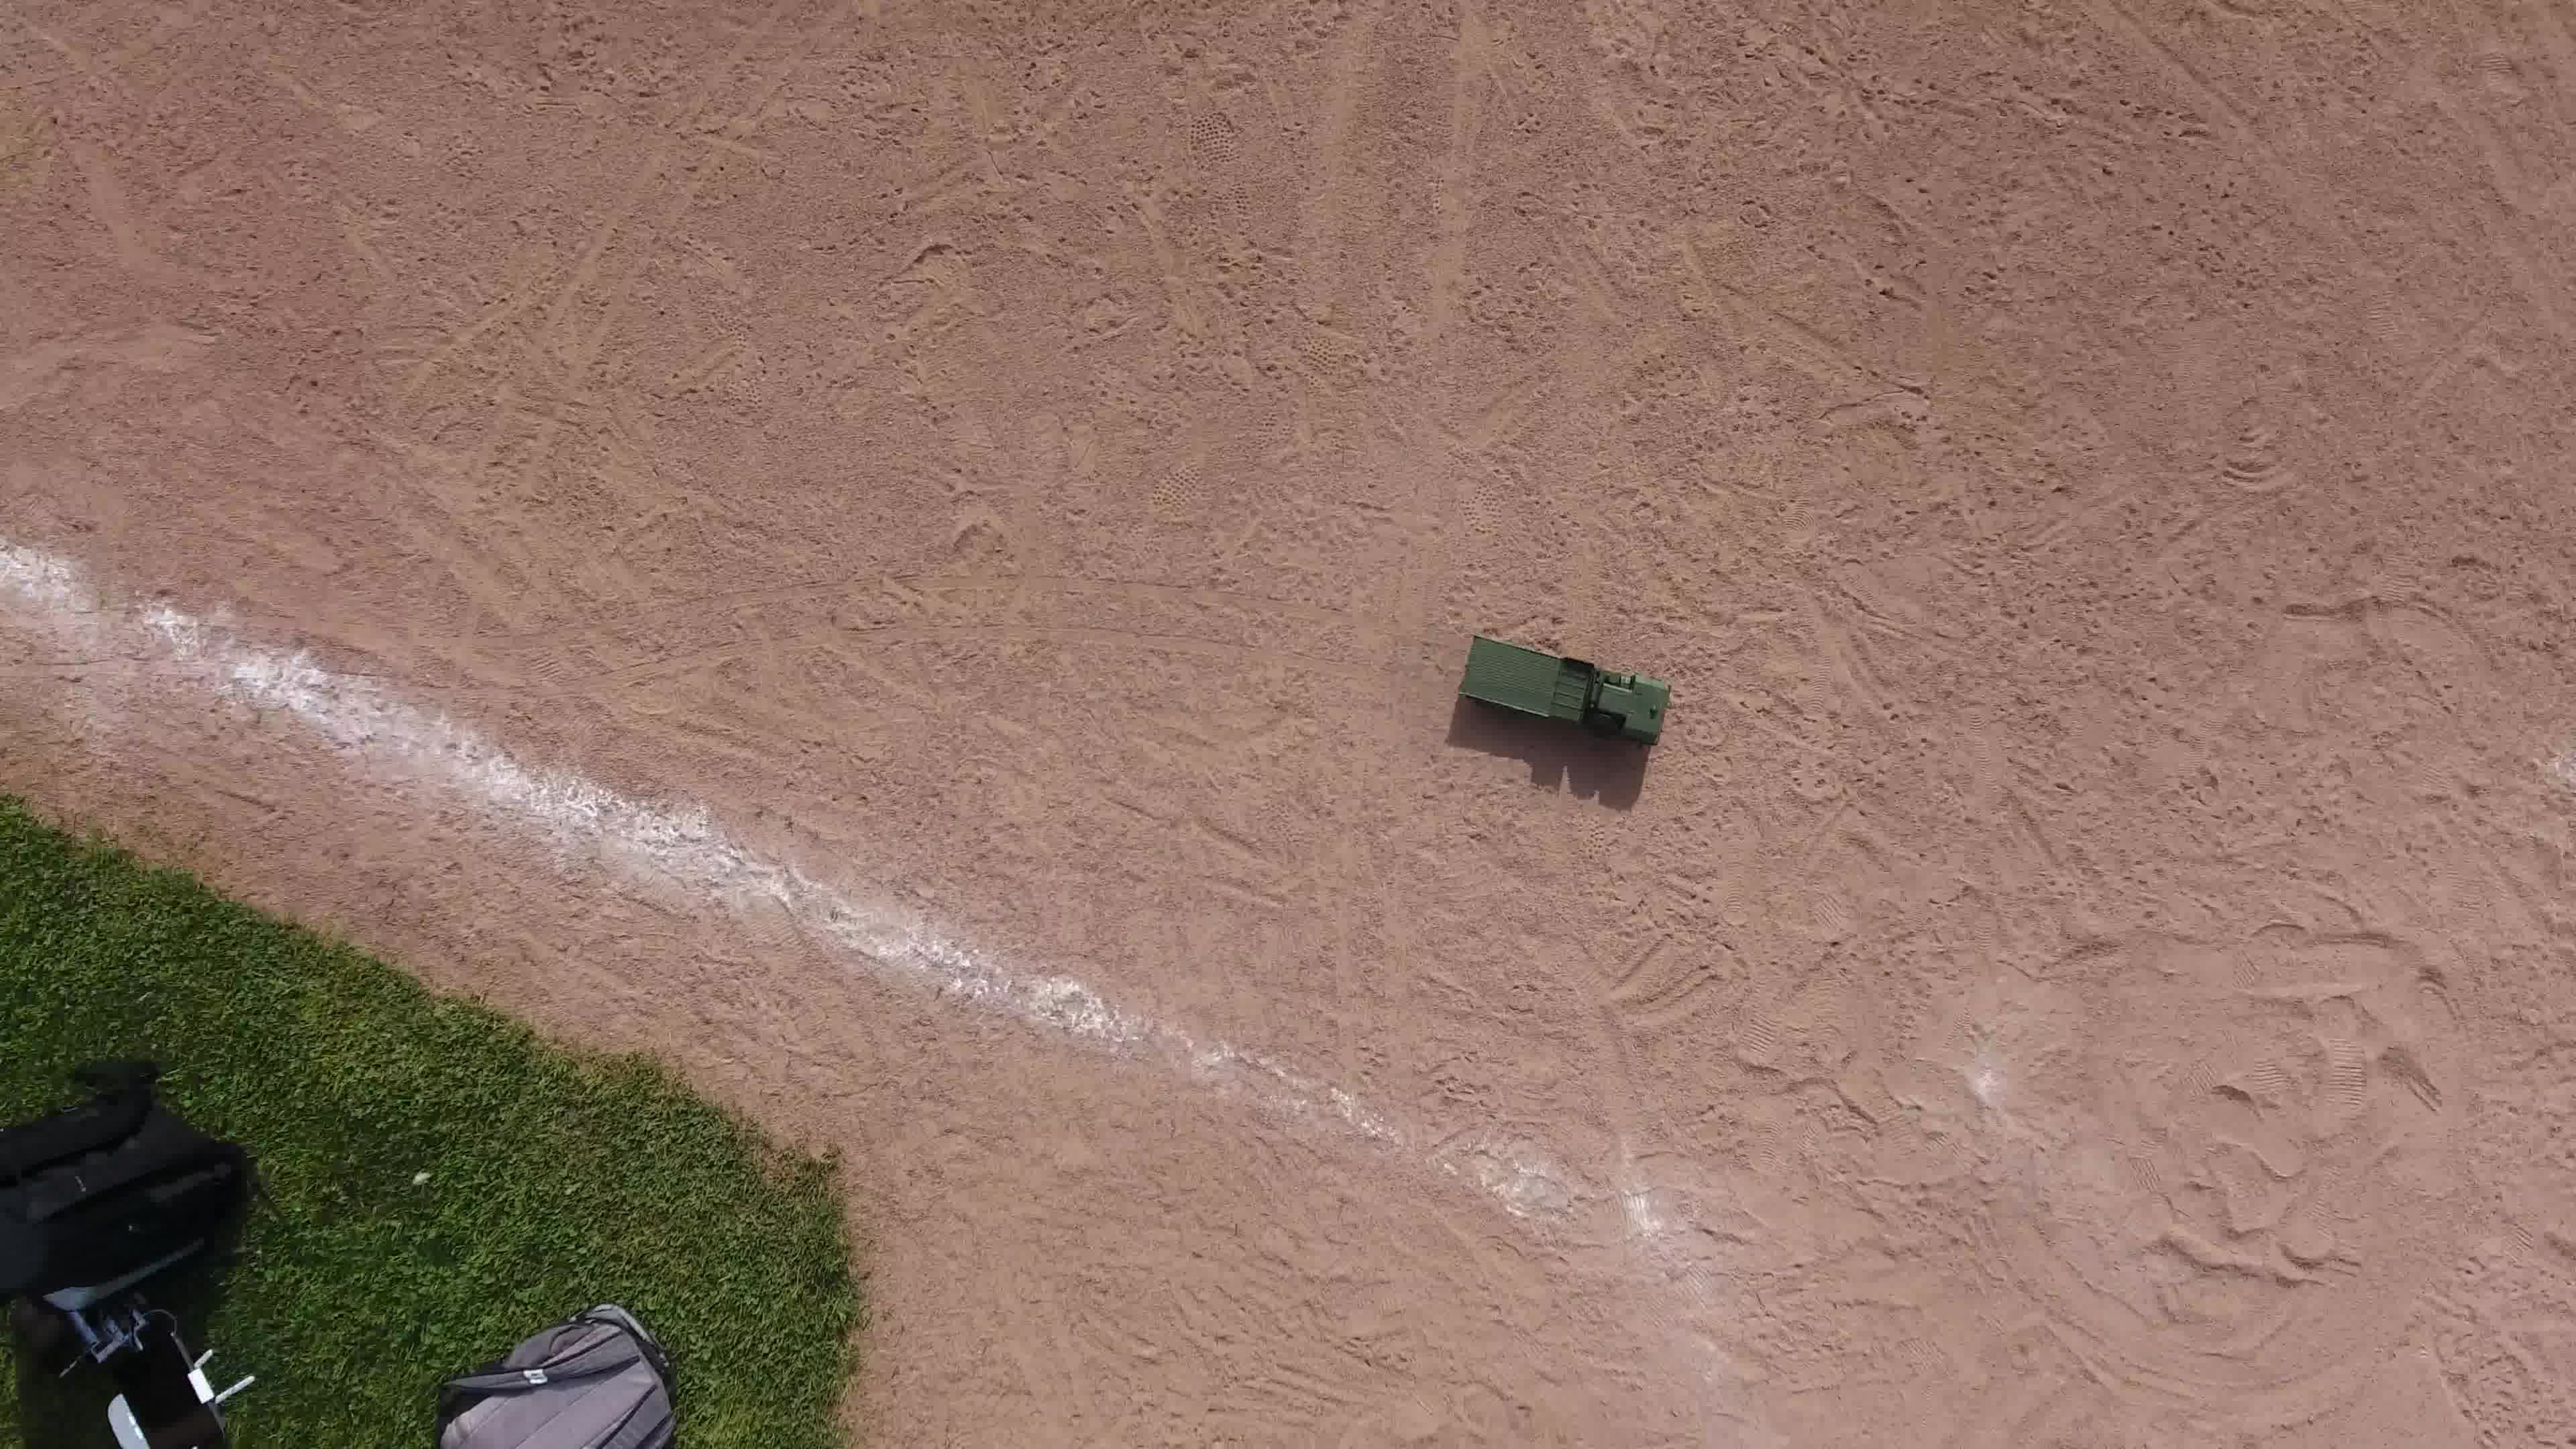transporter9: (1435, 619, 1688, 771)
